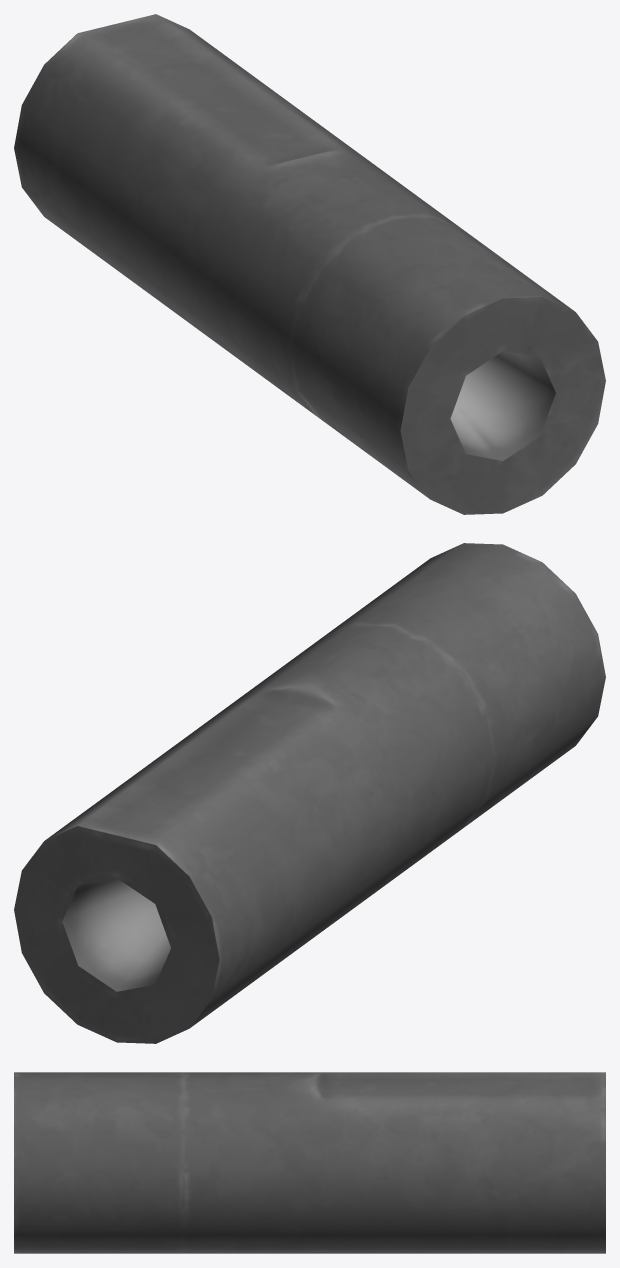
Rendered from IG_Acc_Muzzle_SNP_DAM_1.fbx.
3 views of the same model, one above another, from view 1: azimuth 30°, elevation 25°; view 2: azimuth 150°, elevation 25°; view 3: azimuth 270°, elevation 25° (orthographic). The views are drawn at different scales.
Visible parts, largest first — view 1: Muzzle_SNP_DAM_1; view 2: Muzzle_SNP_DAM_1; view 3: Muzzle_SNP_DAM_1.
Boxes of the visible parts, <box> form: Muzzle_SNP_DAM_1: <box>14,14,605,514</box>; Muzzle_SNP_DAM_1: <box>14,543,605,1043</box>; Muzzle_SNP_DAM_1: <box>14,1072,605,1253</box>.
Bounding box in the file's own units: 0.0865 × 0.0865 × 0.2817.
